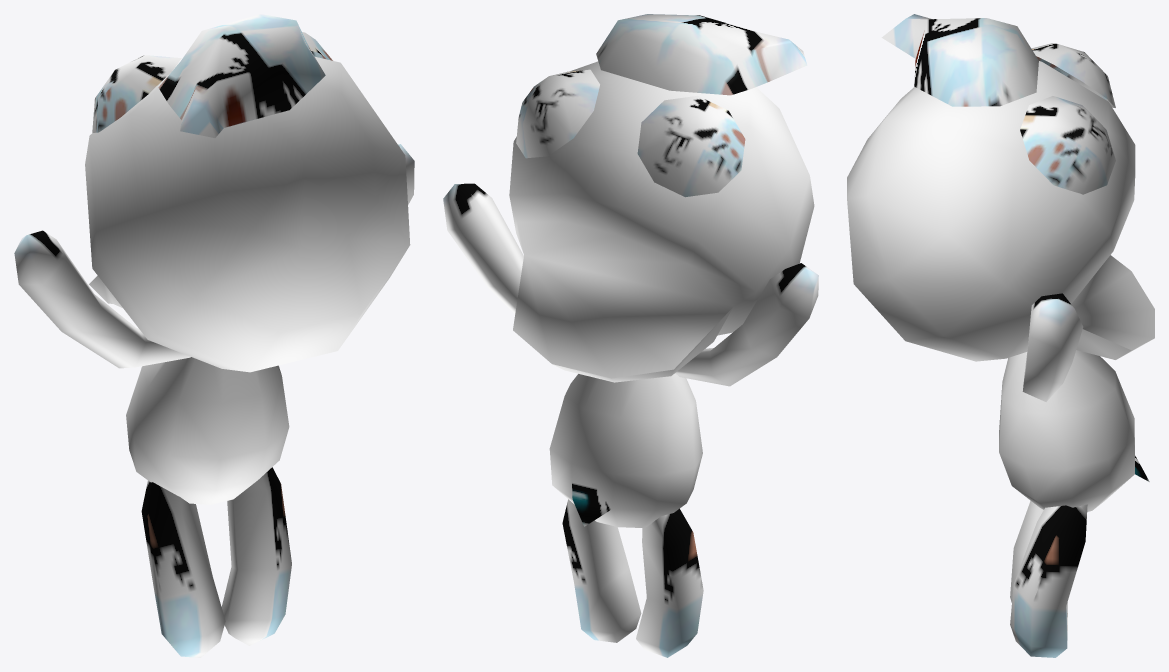
Rendered from static.ico.obj.
3 renders of one model, left to right at view 1: azimuth 30°, elevation 25°; view 2: azimuth 150°, elevation 25°; view 3: azimuth 270°, elevation 25°, orthographic. The views are drawn at different scales.
Bounding box in the file's own units: 2.99 × 4.7 × 2.14.
